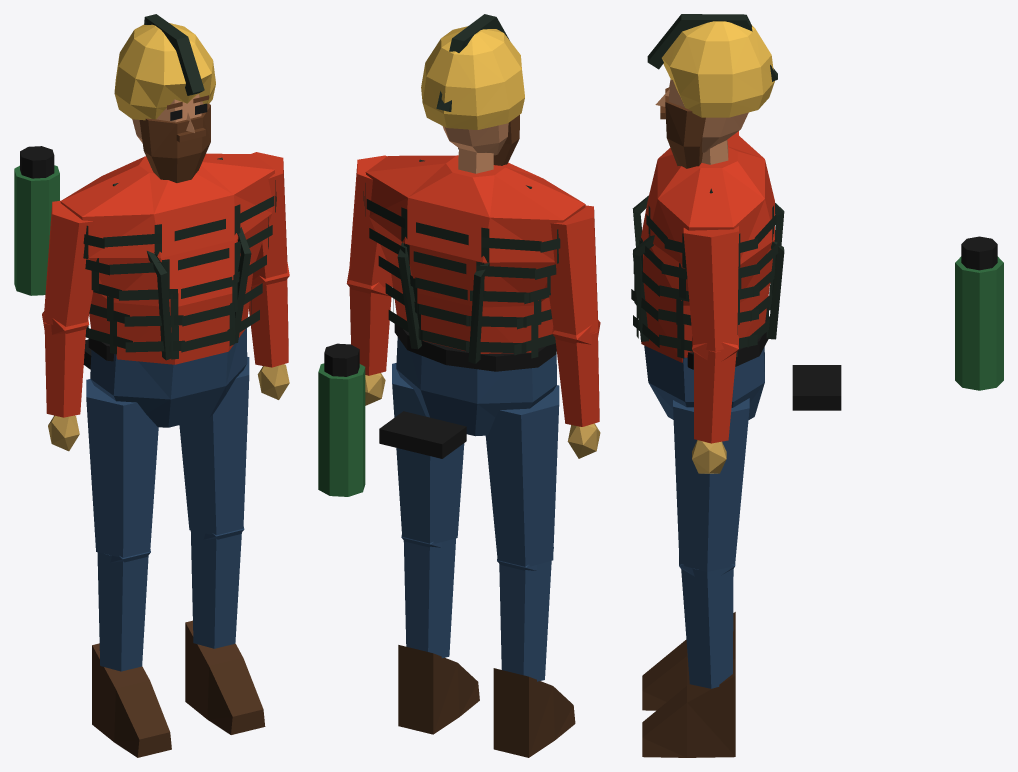
File: old-growth.glb
The picture shows the model from 3 angles, left to right: view 1: azimuth 30°, elevation 25°; view 2: azimuth 150°, elevation 25°; view 3: azimuth 270°, elevation 25°; orthographic projection. The views are drawn at different scales.
Visible parts, largest first — view 1: chest_mesh, shin_l_mesh, shin_r_mesh, head_mesh, chest_detail, thigh_r_mesh, thigh_l_mesh, hips_mesh, prop_mesh, upper_arm_r_mesh, forearm_r_mesh, forearm_l_mesh (+2 smaller); view 2: chest_mesh, head_mesh, shin_r_mesh, shin_l_mesh, thigh_r_mesh, hips_mesh, prop_mesh, chest_detail, thigh_l_mesh, upper_arm_r_mesh, forearm_r_mesh, forearm_l_mesh (+2 smaller); view 3: chest_mesh, head_mesh, shin_l_mesh, prop_mesh, thigh_l_mesh, upper_arm_l_mesh, chest_detail, forearm_l_mesh, hips_mesh, shin_r_mesh, head_detail.
Part boxes in pixels (x1,y1,x2,y2): chest_mesh: [60, 153, 274, 364]; shin_l_mesh: [185, 530, 265, 734]; shin_r_mesh: [92, 552, 171, 757]; head_mesh: [114, 23, 215, 182]; chest_detail: [83, 180, 276, 359]; thigh_r_mesh: [86, 379, 158, 562]; thigh_l_mesh: [179, 357, 249, 539]; hips_mesh: [88, 328, 247, 427]; prop_mesh: [14, 146, 91, 369]; upper_arm_r_mesh: [42, 200, 94, 334]; forearm_r_mesh: [44, 322, 86, 451]; forearm_l_mesh: [249, 279, 289, 399]; chest_mesh: [365, 155, 585, 363]; head_mesh: [421, 26, 524, 173]; shin_r_mesh: [493, 561, 575, 757]; shin_l_mesh: [398, 538, 479, 734]; thigh_r_mesh: [485, 385, 559, 570]; hips_mesh: [394, 324, 556, 436]; prop_mesh: [318, 343, 466, 496]; chest_detail: [363, 183, 560, 359]; thigh_l_mesh: [392, 363, 464, 547]; upper_arm_r_mesh: [546, 205, 600, 344]; forearm_r_mesh: [555, 331, 600, 458]; forearm_l_mesh: [349, 286, 392, 405]; chest_mesh: [632, 133, 784, 362]; head_mesh: [660, 21, 774, 168]; shin_l_mesh: [642, 568, 735, 757]; prop_mesh: [792, 236, 1003, 410]; thigh_l_mesh: [673, 398, 749, 576]; upper_arm_l_mesh: [683, 226, 738, 361]; chest_detail: [631, 205, 781, 358]; forearm_l_mesh: [692, 351, 736, 473]; hips_mesh: [644, 312, 769, 419]; shin_r_mesh: [642, 612, 735, 710]; head_detail: [647, 14, 777, 106].
Size of the model in its own units: 0.7091 by 1.92 by 0.9223.
